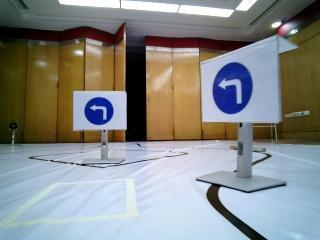left: (202, 63, 280, 123), (74, 93, 125, 128)
